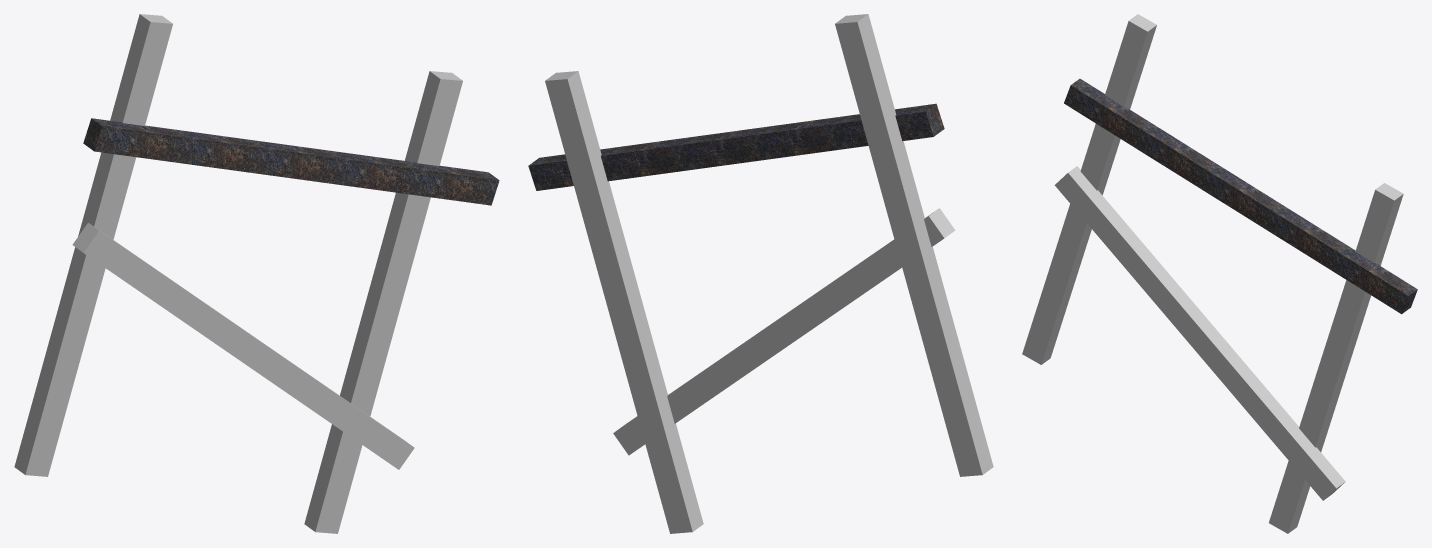
The model's file is bars.obj.
3 views of the same model, side by side, from view 1: azimuth 30°, elevation 25°; view 2: azimuth 150°, elevation 25°; view 3: azimuth 330°, elevation 25° (orthographic). The views are drawn at different scales.
Parts seen in each view (by area): view 1: Cube.004_Cube.005, Cube.005_Cube.006, Cube.007_Cube.008, Cube.006_Cube.007; view 2: Cube.005_Cube.006, Cube.004_Cube.005, Cube.007_Cube.008, Cube.006_Cube.007; view 3: Cube.006_Cube.007, Cube.007_Cube.008, Cube.005_Cube.006, Cube.004_Cube.005.
Part boxes in pixels (x1,y1,x2,y2): Cube.004_Cube.005: (14,14,172,476); Cube.005_Cube.006: (304,71,462,533); Cube.007_Cube.008: (83,118,499,205); Cube.006_Cube.007: (72,222,414,469); Cube.005_Cube.006: (545,71,703,533); Cube.004_Cube.005: (835,14,993,476); Cube.007_Cube.008: (528,103,944,190); Cube.006_Cube.007: (613,208,955,455); Cube.006_Cube.007: (1054,166,1345,500); Cube.007_Cube.008: (1064,78,1417,314); Cube.005_Cube.006: (1269,183,1403,533); Cube.004_Cube.005: (1022,14,1156,364).
Bounding box in the file's own units: 4.09 × 4.69 × 0.3189.
